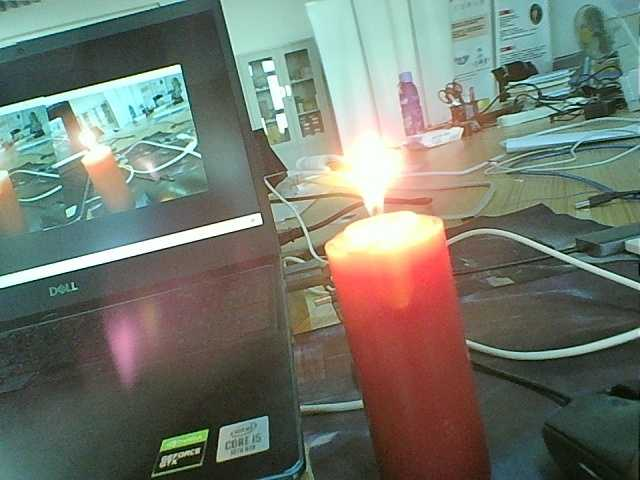candle: (321, 240, 504, 476), (77, 153, 141, 210), (1, 169, 25, 245)
fire: (322, 125, 429, 254), (68, 131, 105, 156)
